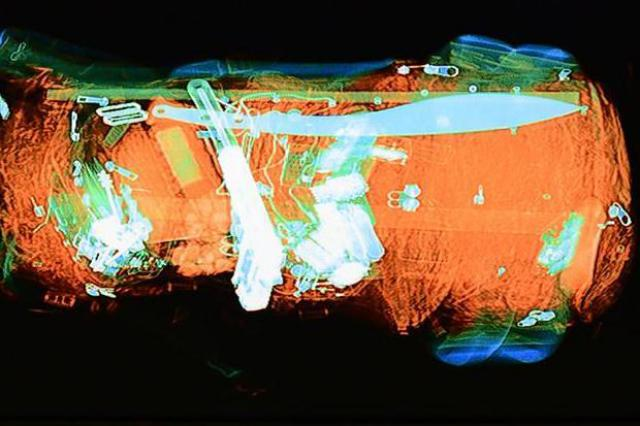Gun: (186, 75, 286, 309)
